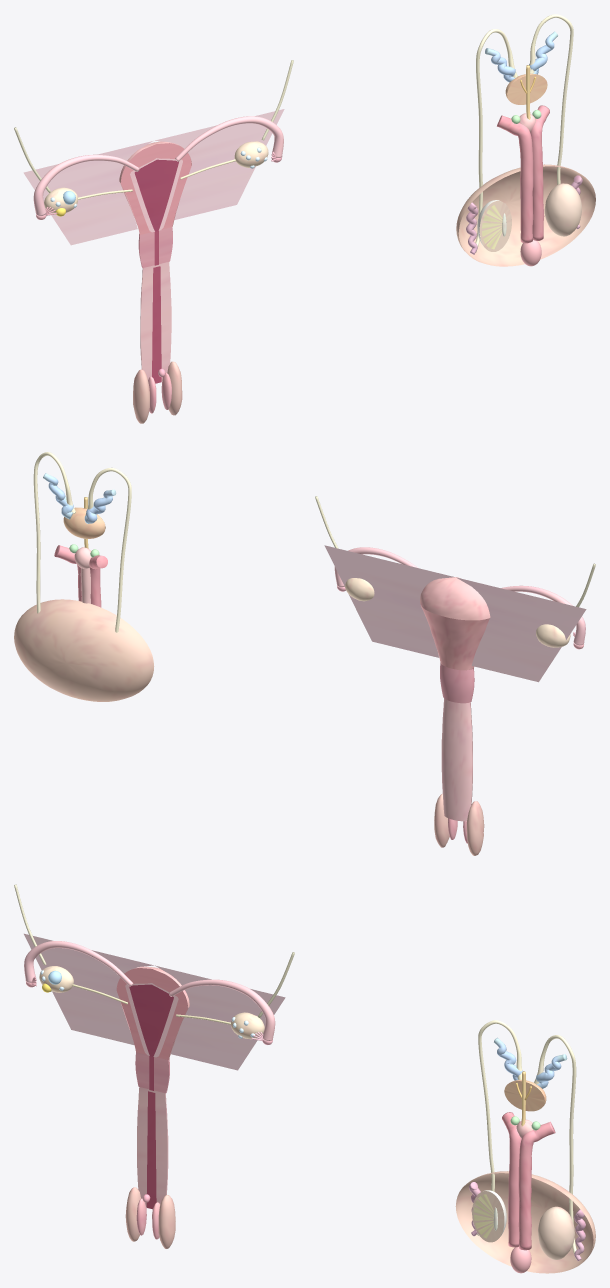
Rendered from REPRODUCTIVE.glb.
3 views of the same model, one above another, from view 1: azimuth 30°, elevation 25°; view 2: azimuth 150°, elevation 25°; view 3: azimuth 330°, elevation 25° (orthographic).
Parts seen in each view (by area): view 1: Broad_Ligament_R, Broad_Ligament_L, Scrotum, Corpus_Cavernosum, Vagina, Myometrium, Uterine_Cavity, Testis_L, Labia_Majora, Uterine_Tube_R, Vas_Deferens_R, Uterine_Tube_L (+9 smaller); view 2: Scrotum, Broad_Ligament_R, Broad_Ligament_L, Vagina, Uterine_Body, Uterine_Fundus, Labia_Majora, Uterine_Cervix, Vas_Deferens_L, Corpus_Cavernosum, Vas_Deferens_R, Prostate (+5 smaller); view 3: Broad_Ligament_L, Broad_Ligament_R, Scrotum, Corpus_Cavernosum, Vagina, Myometrium, Uterine_Cavity, Testis_L, Labia_Majora, Vas_Deferens_L, Uterine_Tube_L, Uterine_Tube_R (+10 smaller).
Part boxes in pixels (x1,y1,x2,y2): Broad_Ligament_R: (23, 141, 152, 245); Broad_Ligament_L: (155, 109, 284, 219); Scrotum: (456, 164, 595, 266); Corpus_Cavernosum: (497, 105, 549, 243); Vagina: (140, 262, 171, 381); Myometrium: (121, 143, 191, 234); Uterine_Cavity: (134, 159, 178, 231); Testis_L: (544, 183, 581, 236); Labia_Majora: (133, 361, 182, 423); Uterine_Tube_R: (33, 154, 139, 216); Vas_Deferens_R: (475, 29, 517, 252); Uterine_Tube_L: (175, 116, 283, 161); Scrotum: (14, 599, 154, 701); Broad_Ligament_R: (456, 577, 586, 682); Broad_Ligament_L: (324, 545, 454, 657); Vagina: (441, 698, 472, 821); Uterine_Body: (421, 605, 489, 670); Uterine_Fundus: (420, 577, 490, 620); Labia_Majora: (434, 794, 484, 855); Uterine_Cervix: (440, 663, 474, 703); Vas_Deferens_L: (33, 452, 75, 613); Corpus_Cavernosum: (54, 545, 107, 607); Vas_Deferens_R: (85, 467, 131, 632); Prostate: (63, 507, 105, 538); Broad_Ligament_L: (155, 965, 285, 1070); Broad_Ligament_R: (24, 933, 153, 1045); Scrotum: (455, 1171, 595, 1273); Corpus_Cavernosum: (502, 1112, 555, 1250); Vagina: (137, 1087, 168, 1206); Myometrium: (116, 968, 187, 1059); Uterine_Cavity: (129, 984, 173, 1056); Testis_L: (538, 1206, 574, 1259); Labia_Majora: (125, 1187, 175, 1248); Vas_Deferens_L: (534, 1035, 576, 1259); Uterine_Tube_L: (169, 979, 275, 1041); Uterine_Tube_R: (24, 941, 133, 986).
Bounding box in the file's own units: 7.19 × 3.83 × 0.6442.
